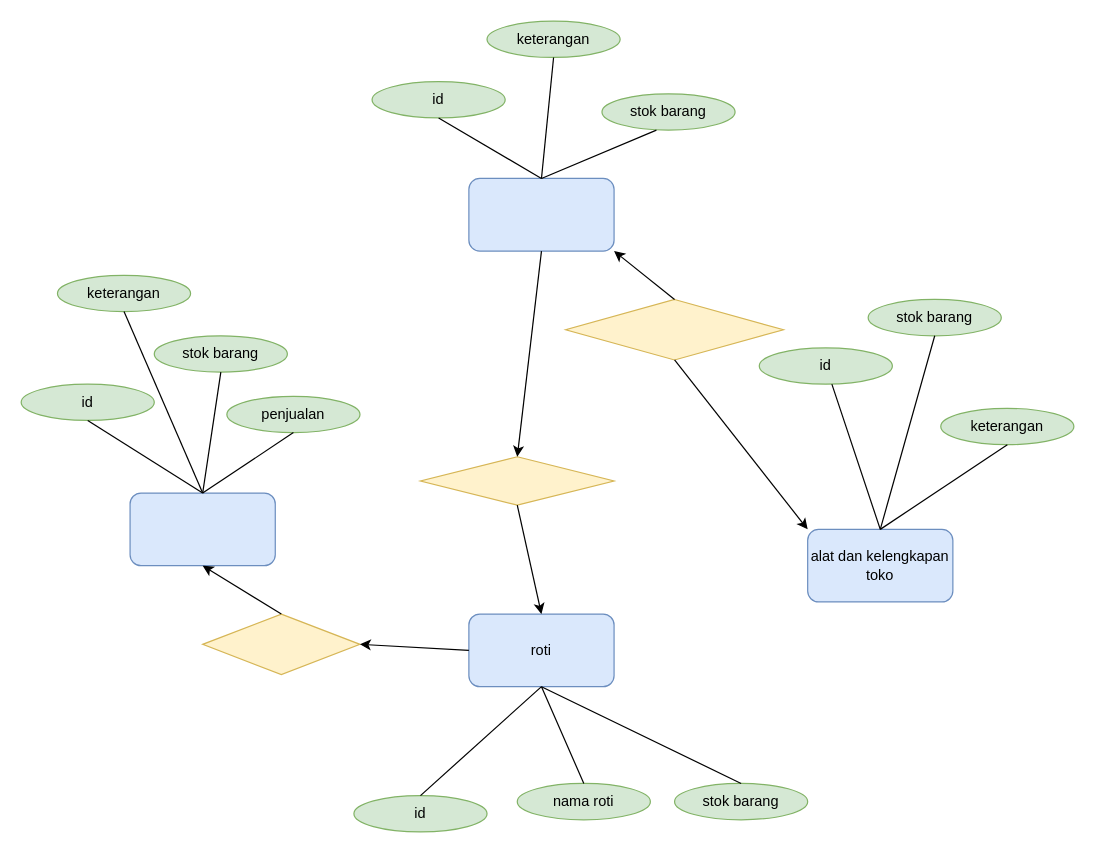
Some shapes in this 1095 by 853 pixel diagram are drawn without their labels. Here are the shapes that lost their labels. From the top down, the centre of each, then its label:
At [541,214]: "bahan baku".
At [673,329]: "pembuatan roti".
At [516,480]: "makanan jadi".
At [202,529]: "laporan penjualan".
At [280,644]: "order".
